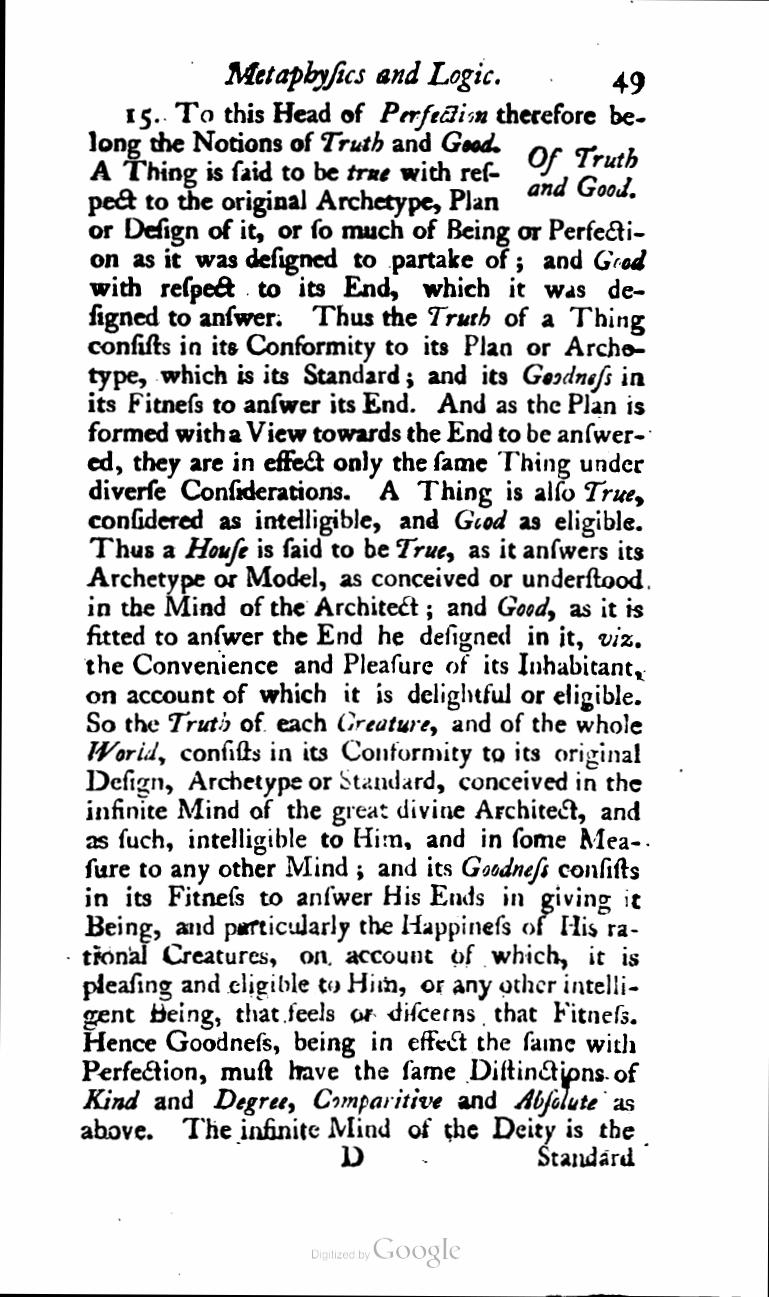catchword: (535, 1143, 642, 1175)
header: (220, 55, 510, 98)
page_num: (612, 67, 648, 98)
print_marg: (528, 143, 642, 203)
signature: (338, 1140, 367, 1168)
top_p: (78, 215, 650, 1143), (87, 128, 503, 215), (87, 98, 650, 130)
